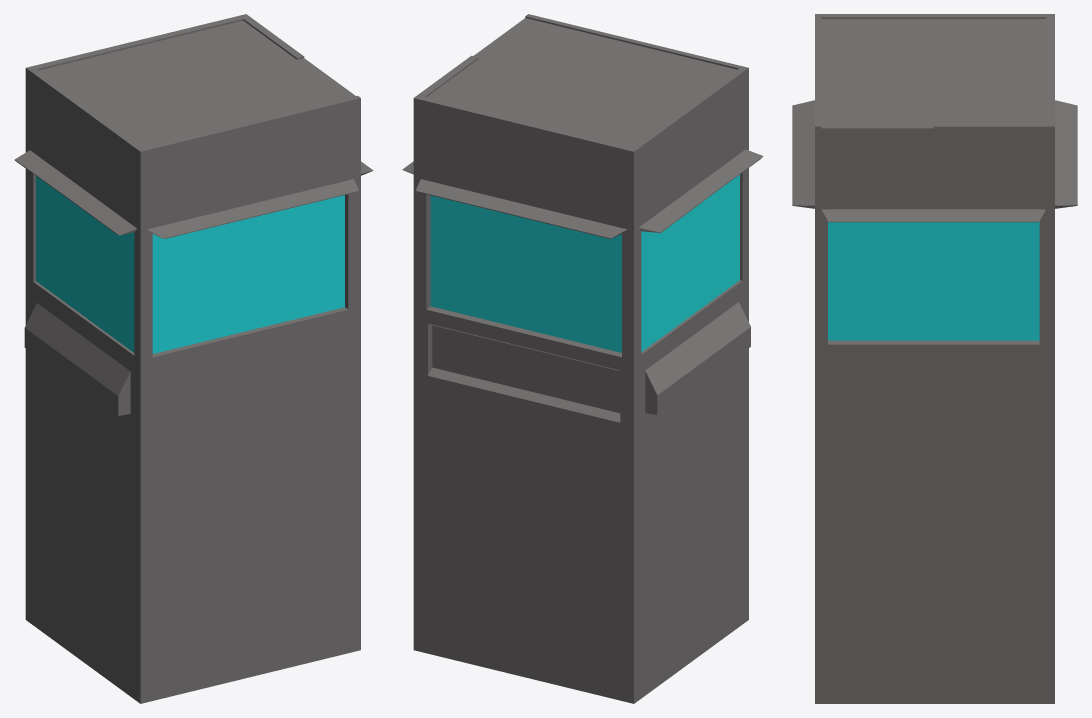
Rendered from plswork.fbx.
3 views of the same model, side by side, from view 1: azimuth 30°, elevation 25°; view 2: azimuth 150°, elevation 25°; view 3: azimuth 270°, elevation 25° (orthographic). The views are drawn at different scales.
Visible parts, largest first — view 1: pCube2; view 2: pCube2; view 3: pCube2.
Boxes of the visible parts, left/top/right/bottom form: pCube2: left=14, top=14, right=373, bottom=703; pCube2: left=402, top=14, right=763, bottom=703; pCube2: left=792, top=14, right=1077, bottom=703.
Bounding box in the file's own units: 1026 × 2098 × 941.
